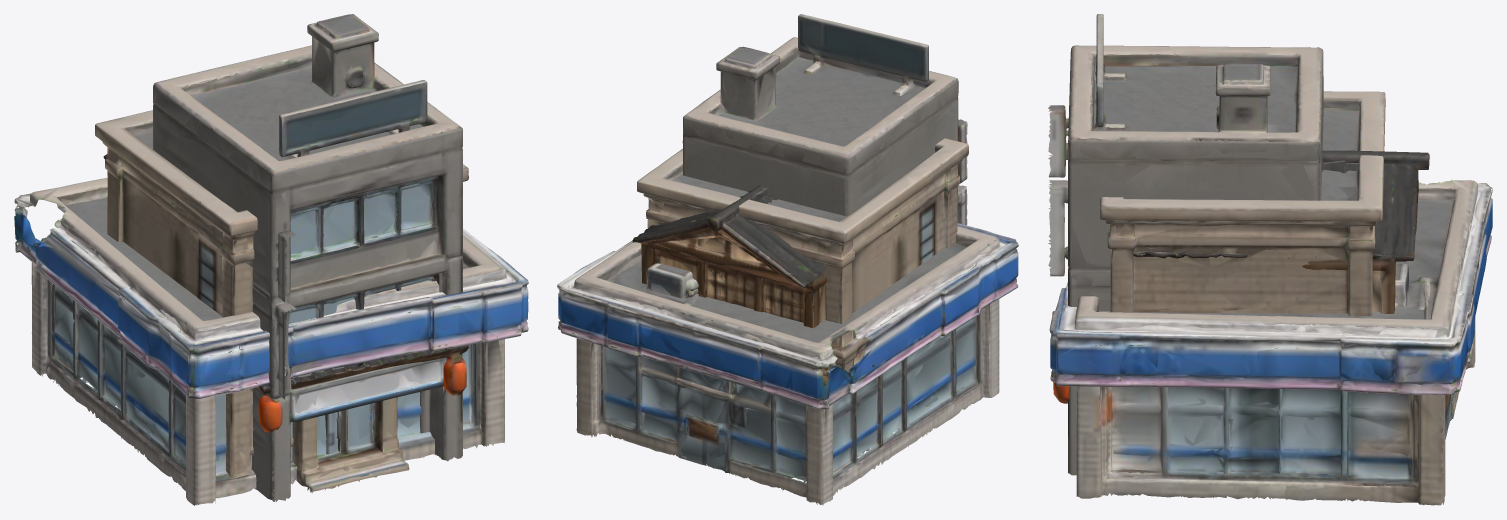
Rendered from harbour-shops.glb.
3 views of the same model, side by side, from view 1: azimuth 30°, elevation 25°; view 2: azimuth 150°, elevation 25°; view 3: azimuth 270°, elevation 25° (orthographic). The views are drawn at different scales.
Parts seen in each view (by area): view 1: electronics-near, market-near, electronics-far, market-far, career-near, career-far, journal-near, journal-far; view 2: market-near, market-far, electronics-near, electronics-far, career-near, journal-near, career-far, journal-far; view 3: market-near, market-far, electronics-near, career-near, electronics-far, career-far, journal-near, journal-far.
Boxes of the visible parts, x1,y1,x2,y2 form: electronics-near: [153, 14, 462, 501]; market-near: [14, 177, 528, 505]; electronics-far: [153, 14, 462, 499]; market-far: [15, 178, 527, 505]; career-near: [95, 110, 468, 492]; career-far: [96, 114, 466, 488]; journal-near: [103, 154, 469, 433]; journal-far: [262, 267, 468, 396]; market-near: [557, 223, 1018, 505]; market-far: [559, 224, 1017, 503]; electronics-near: [682, 14, 967, 225]; electronics-far: [683, 16, 967, 224]; career-near: [637, 138, 968, 452]; journal-near: [633, 185, 828, 400]; career-far: [648, 144, 957, 456]; journal-far: [632, 185, 827, 400]; market-near: [1049, 180, 1492, 505]; market-far: [1050, 180, 1490, 505]; electronics-near: [1048, 14, 1323, 474]; career-near: [1097, 91, 1385, 316]; electronics-far: [1048, 18, 1323, 475]; career-far: [1100, 100, 1385, 316]; journal-near: [1053, 150, 1429, 403]; journal-far: [1134, 155, 1416, 313].
Size of the model in its own units: 9.92 by 10.49 by 10.92.
1 material, 1 textured.
